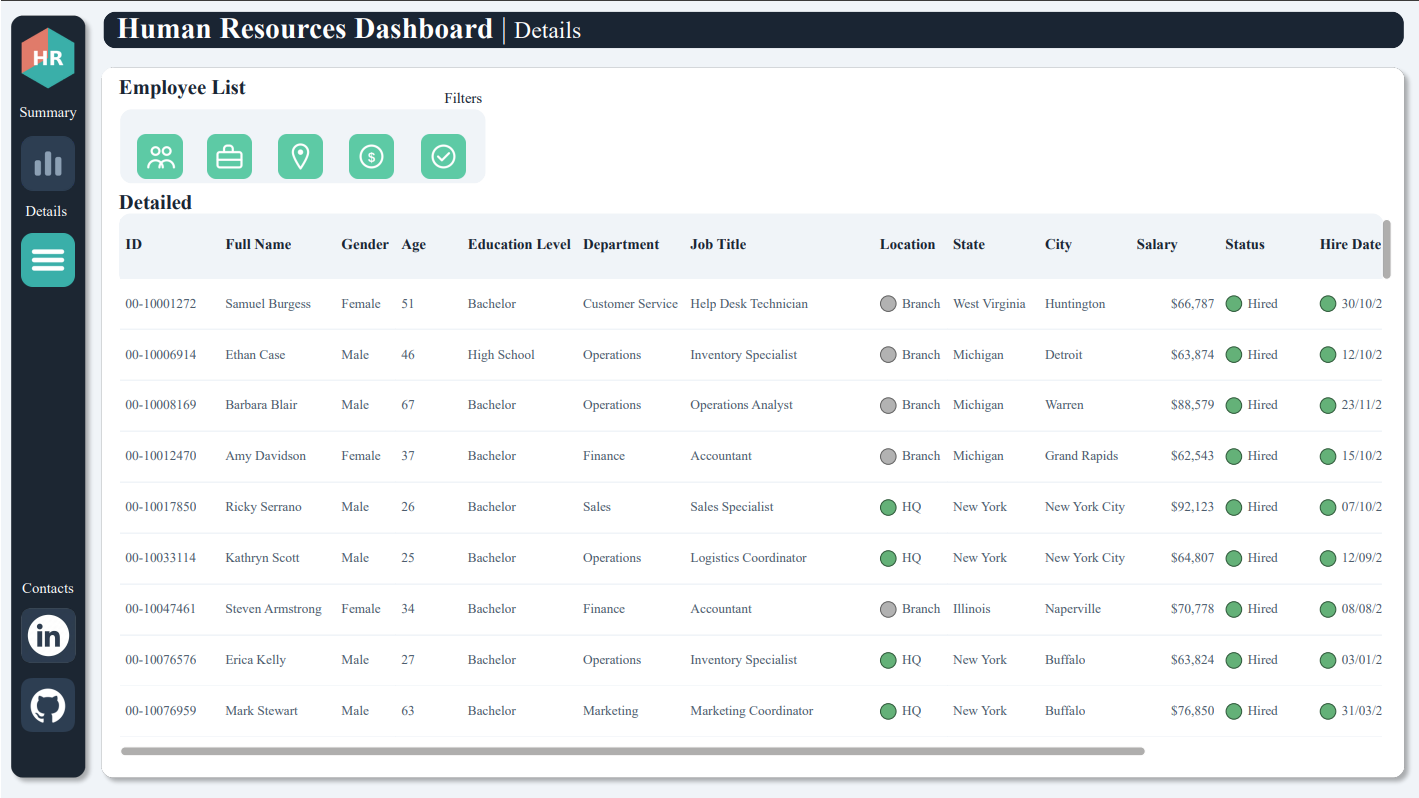

Layout of this report page (visuals, bound fields, positions):
{"tool":"powerbi","page":{"name":"HR | Details","canvas":[1280,720],"ordinal":1},"visuals":[{"type":"shape","title":"Navigator","box":[0,0,84.5,720.1],"z":0,"group":"g2"},{"type":"group","id":"g1","title":"Header Section","box":[91.6,4.9,1189.1,41.7],"z":0},{"type":"shape","title":"Titler Header Section","box":[91.6,4.9,1189.1,38.5],"z":0,"group":"g1"},{"type":"shape","title":"BG","box":[76.6,52.1,1203.4,658],"z":0,"group":"g3"},{"type":"shape","title":"Filters BG","box":[100.4,98.4,340.4,66.9],"z":0,"group":"g6"},{"type":"shape","title":"Header","box":[100.5,191.7,1151.9,64.8],"z":0,"group":"g4"},{"type":"group","id":"g2","title":"Navi","box":[0,0,84.5,720.1],"z":1000},{"type":"textbox","title":"Title Header","box":[93.2,5,483.5,41.6],"z":1000,"group":"g1"},{"type":"image","title":"HR Logo","box":[8,15.1,68.3,72.7],"z":1000,"group":"g2"},{"type":"textbox","title":"List Title","box":[100.5,61.7,193.7,40.3],"z":1000,"group":"g3"},{"type":"tableEx","title":"Detailed","fields":{"Values":["Fact_HR.Employee_ID","Dim_Employee.Full Name","Dim_Employee.Gender","Fact_HR.Age","Dim_Education.Education Level","Dim_Job.Department","Dim_Job.Job Title","Fact_HR.Location","Dim_Location.State","Dim_Location.City","Fact_HR.Salary","Fact_HR.Status"]},"box":[100.9,170.7,1158.3,515.7],"z":1000,"group":"g4"},{"type":"group","id":"g3","title":"Employee List","box":[76.6,52.1,1203.4,658],"z":2000},{"type":"textbox","title":"Summary Text","box":[8,88,68,27],"z":2000,"group":"g2"},{"type":"image","title":"Demo ON","box":[100.9,120.9,80.6,40.5],"z":2000,"group":"g6"},{"type":"group","id":"g4","title":"Main Table","box":[100.5,170.7,1158.7,515.7],"z":2000,"group":"g3"},{"type":"image","title":"Summary OFF","box":[8,117,68,60],"z":3000,"group":"g2"},{"type":"group","id":"g5","title":"Filters","box":[92.3,71,894,119.7],"z":4000,"group":"g3"},{"type":"image","title":"Role ON","box":[164.2,120.9,80.6,40.5],"z":4000,"group":"g6"},{"type":"textbox","title":"Records Text","box":[8,177,68,27],"z":5000,"group":"g2"},{"type":"group","id":"g6","title":"Buttons","box":[99.9,72.1,886.4,93.1],"z":6000,"group":"g5"},{"type":"image","title":"Geo ON","box":[228.5,120.9,80.6,40.5],"z":6000,"group":"g6"},{"type":"image","title":"Record ON","box":[8,204,68,60],"z":7000,"group":"g2"},{"type":"image","title":"Salary ON","box":[292.8,120.9,80.6,40.5],"z":8000,"group":"g6"},{"type":"textbox","title":"Contacts Text","box":[8,518,68,27],"z":8000,"group":"g2"},{"type":"image","title":"GitHub","box":[8,597,68,77],"z":9000,"group":"g2"},{"type":"image","title":"Status ON","box":[357.1,120.9,80.6,40.5],"z":10000,"group":"g6"},{"type":"image","title":"LinkedIN","box":[0,518,84,110],"z":10000,"group":"g2"},{"type":"textbox","box":[99.9,75,338.2,46],"z":12000,"group":"g6"}]}

Visuals, with their boxes on the page's 1280x720 design canvas (x1, y1, x2, y2). These are canvas units, not pixel positions in the 1419x798 screenshot, which may show the page scaled, cropped or inside an application window:
"Navigator" shape: region(0, 0, 84, 720)
"Header Section" group: region(92, 5, 1281, 47)
"Titler Header Section" shape: region(92, 5, 1281, 43)
"BG" shape: region(77, 52, 1280, 710)
"Filters BG" shape: region(100, 98, 441, 165)
"Header" shape: region(100, 192, 1252, 256)
"Navi" group: region(0, 0, 84, 720)
"Title Header" textbox: region(93, 5, 577, 47)
"HR Logo" image: region(8, 15, 76, 88)
"List Title" textbox: region(100, 62, 294, 102)
"Detailed" tableEx: region(101, 171, 1259, 686)
"Employee List" group: region(77, 52, 1280, 710)
"Summary Text" textbox: region(8, 88, 76, 115)
"Demo ON" image: region(101, 121, 182, 161)
"Main Table" group: region(100, 171, 1259, 686)
"Summary OFF" image: region(8, 117, 76, 177)
"Filters" group: region(92, 71, 986, 191)
"Role ON" image: region(164, 121, 245, 161)
"Records Text" textbox: region(8, 177, 76, 204)
"Buttons" group: region(100, 72, 986, 165)
"Geo ON" image: region(228, 121, 309, 161)
"Record ON" image: region(8, 204, 76, 264)
"Salary ON" image: region(293, 121, 373, 161)
"Contacts Text" textbox: region(8, 518, 76, 545)
"GitHub" image: region(8, 597, 76, 674)
"Status ON" image: region(357, 121, 438, 161)
"LinkedIN" image: region(0, 518, 84, 628)
textbox: region(100, 75, 438, 121)
